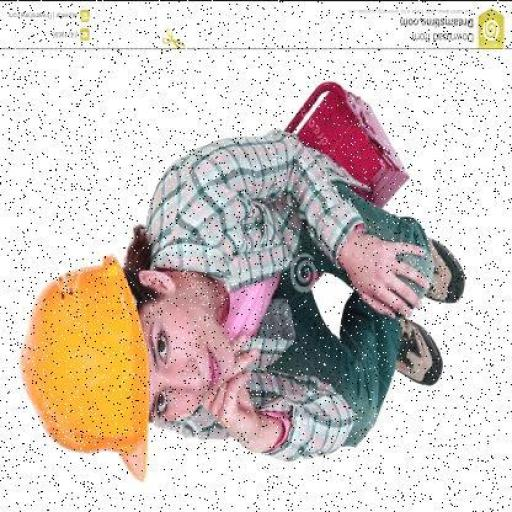safety_shoe: (382, 315, 446, 380), (424, 238, 467, 300)
